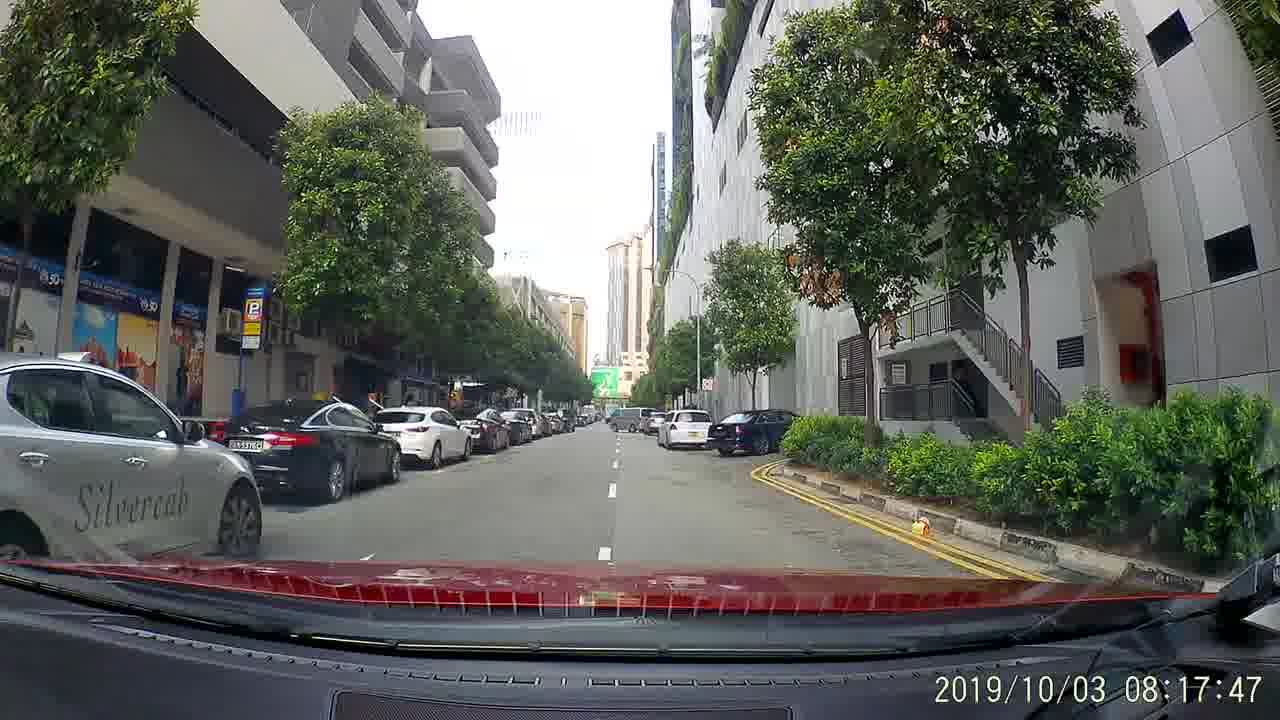car: (3, 344, 260, 555), (208, 392, 403, 503), (367, 404, 469, 469), (710, 410, 814, 458), (439, 406, 505, 454), (661, 406, 715, 451), (493, 409, 529, 448), (508, 406, 545, 439), (640, 406, 671, 435)
